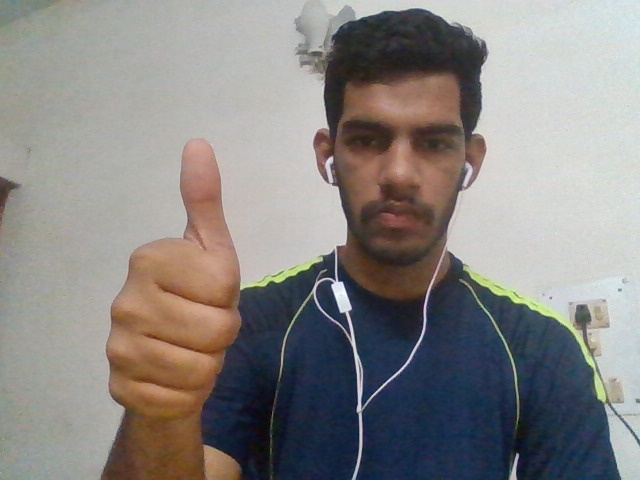yes: (85, 123, 248, 428)
